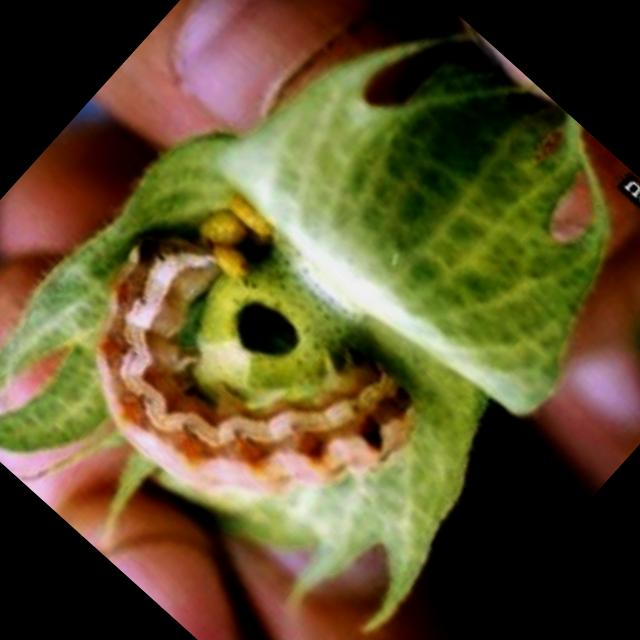Cotton bollworm: (0, 139, 470, 608)
